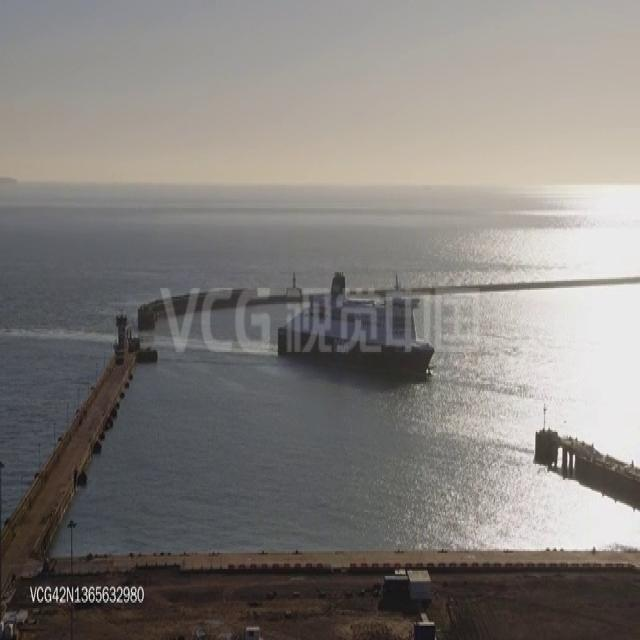passenger ship: (276, 273, 434, 374)
